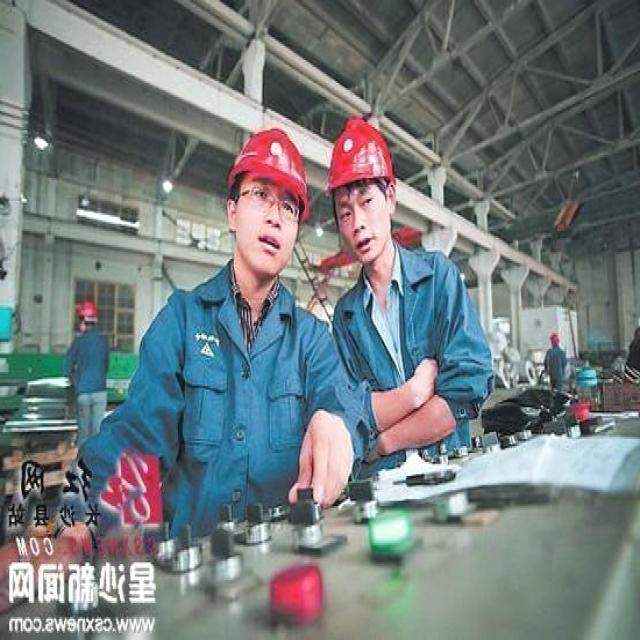face_nomask: (233, 180, 299, 270), (342, 178, 390, 268)
glasses: (247, 182, 301, 225)
hand_noglove: (288, 406, 354, 524)
head_helmet: (227, 131, 313, 208), (324, 118, 394, 194), (74, 298, 98, 317), (544, 328, 564, 344)
person: (153, 127, 314, 564), (326, 104, 452, 485), (65, 298, 112, 455), (542, 326, 573, 390)
